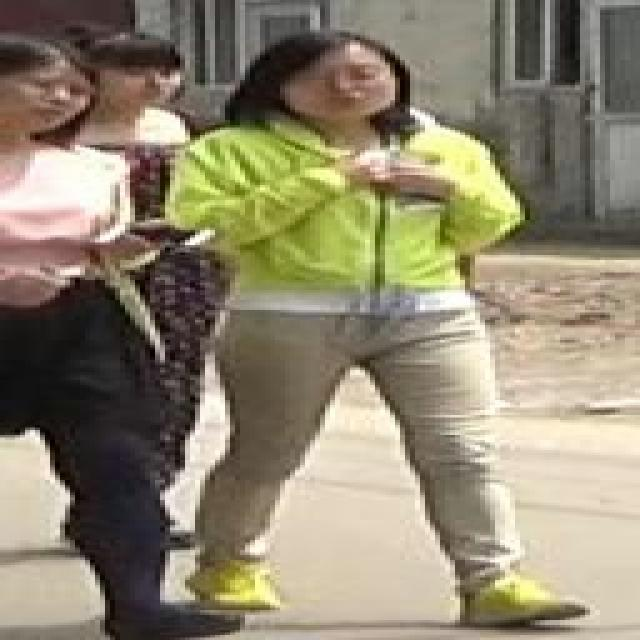adult: (163, 37, 593, 628), (0, 32, 243, 639), (65, 30, 214, 495)
